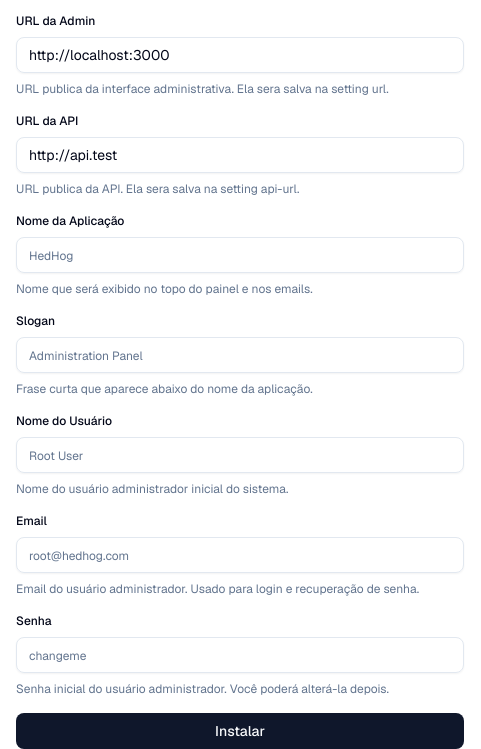
Test: InstallationProvider › submissão do formulário › expira o polling após timeout e mostra mensagem de erro
This screenshot has width=481, height=749.
(page scrolled)
Click the button "Instalar".
click(240, 731)  # box [16,713,464,748]
Wait 310000 ms
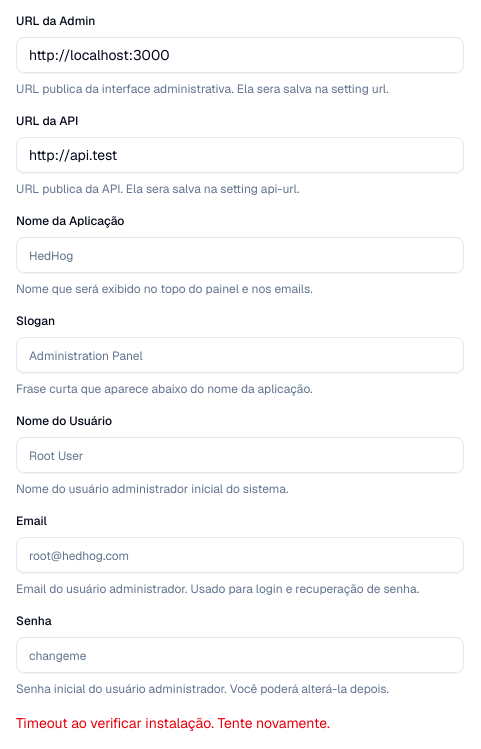
expect the text "Timeout ao verificar instalação. Tente novamente." is shown: met, box [16,714,330,732]
